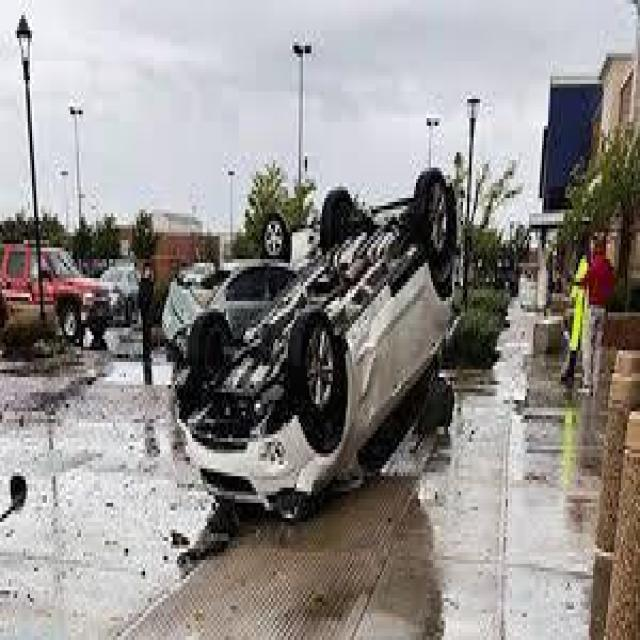accident: (170, 156, 466, 522)
